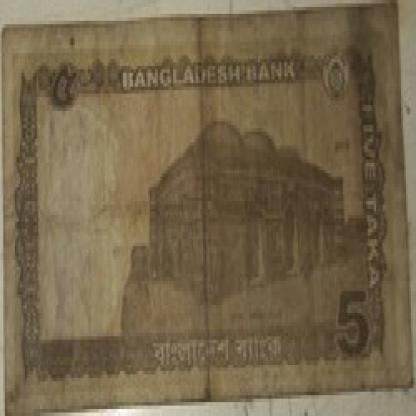Five Taka: (354, 86, 391, 302), (334, 281, 375, 367), (48, 59, 78, 118)
